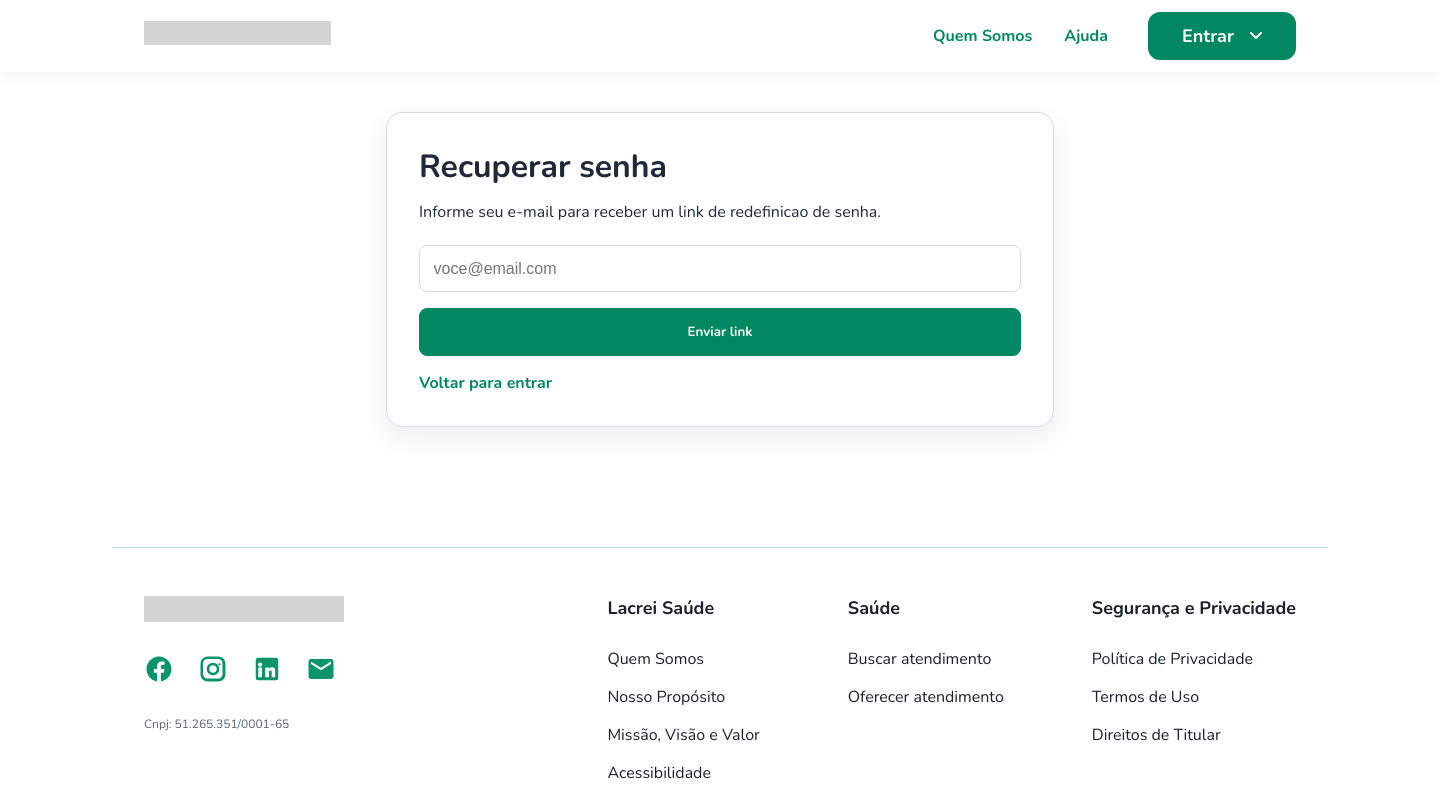
Test: Fluxo 1.2L - Recuperar senha › 1.2L - 1 exibe estado de conta nao cadastrada
Type "naoexiste@teste.com" into the field at (720, 269), box [419, 245, 1021, 292]
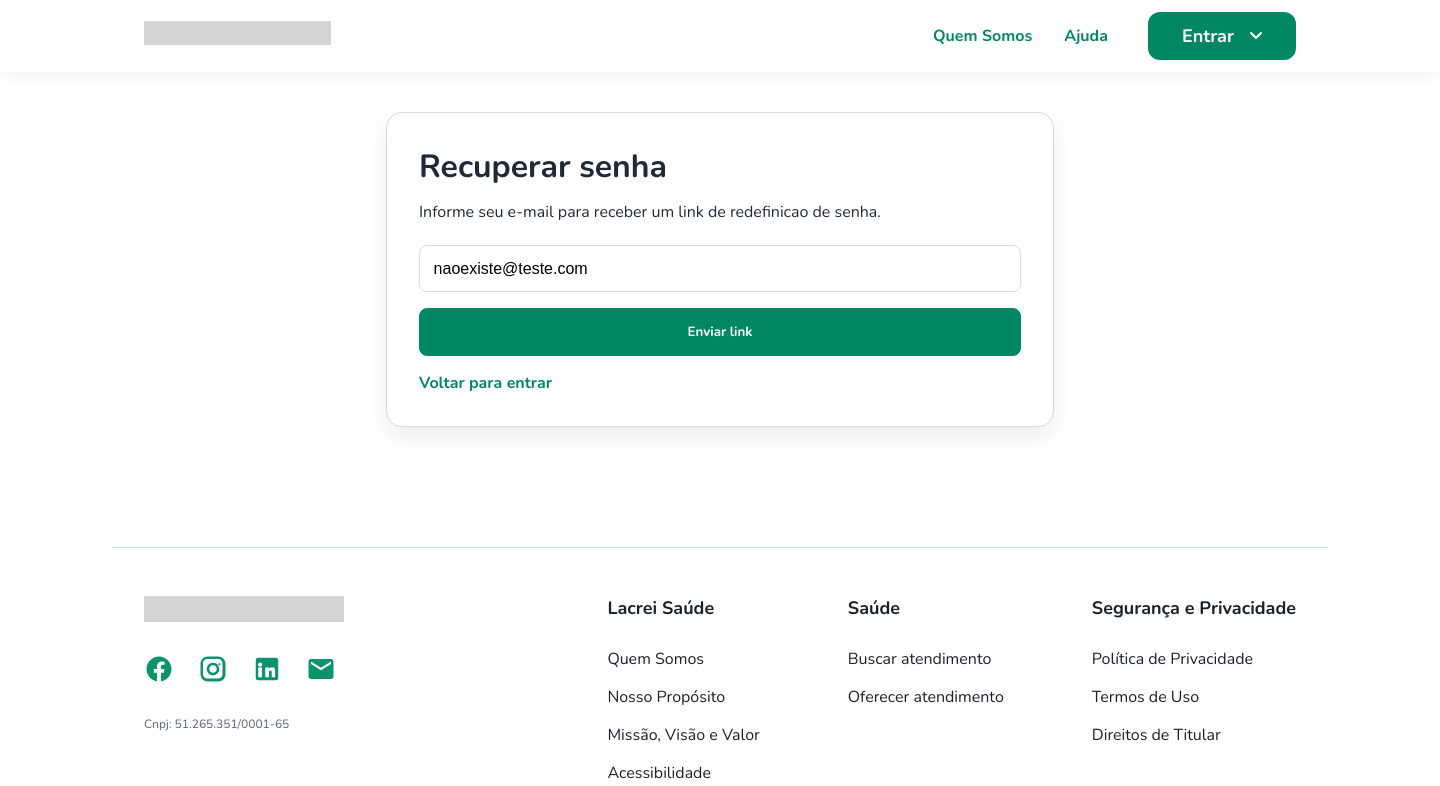
Click the button "Enviar link" at (720, 332), box [419, 308, 1021, 356]
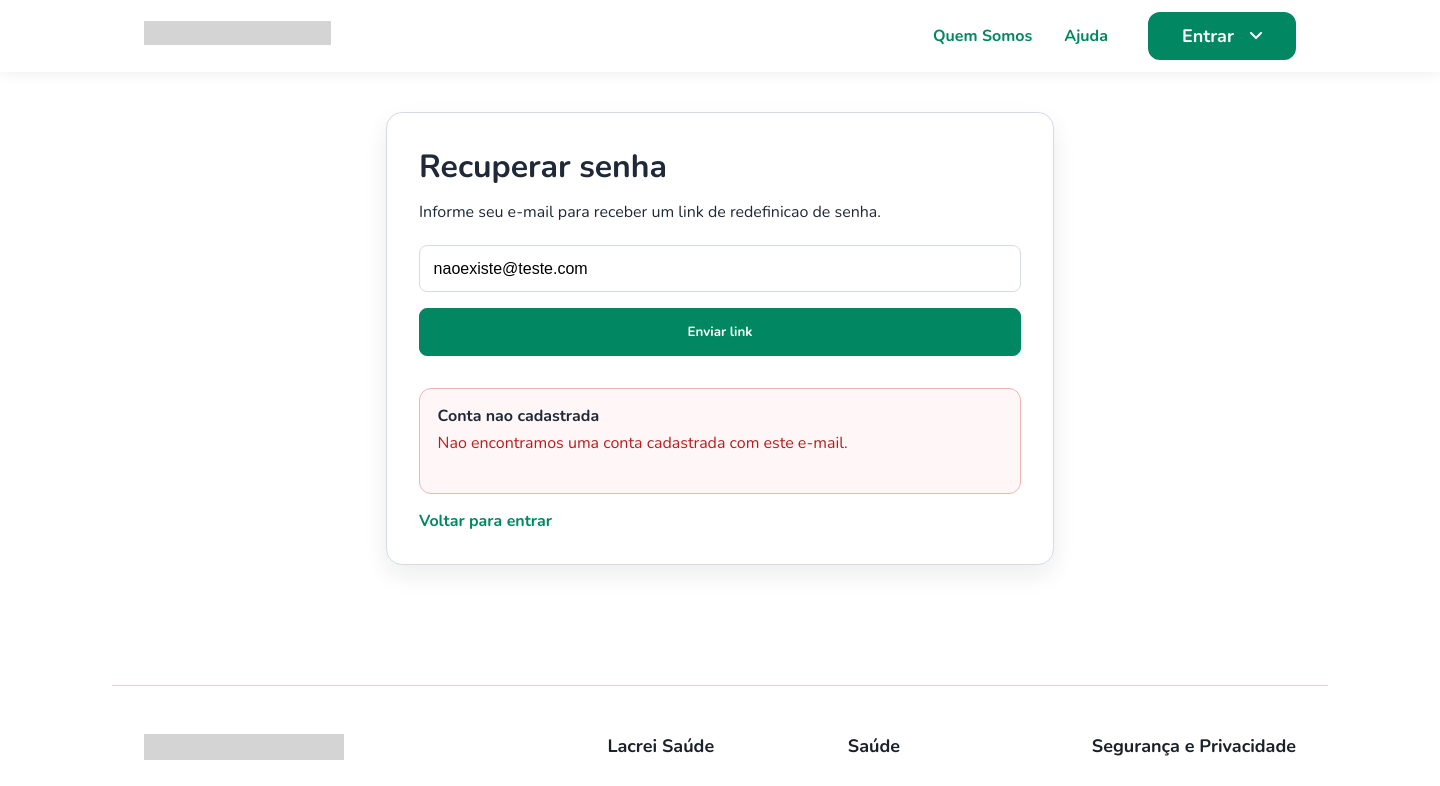
Now the text "Conta nao cadastrada" is shown, box [438, 405, 599, 427]
Now the text "Nao encontramos uma conta cadastrada com este e-mail." is shown, box [438, 432, 848, 454]
